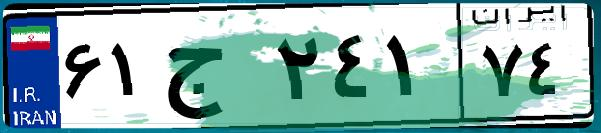1: (385, 28, 445, 110), (110, 28, 158, 98)
2: (270, 28, 330, 110)
4: (330, 28, 385, 110), (525, 38, 570, 115)
6: (57, 26, 110, 100)
7: (475, 38, 525, 113)
ج: (158, 20, 270, 120)
